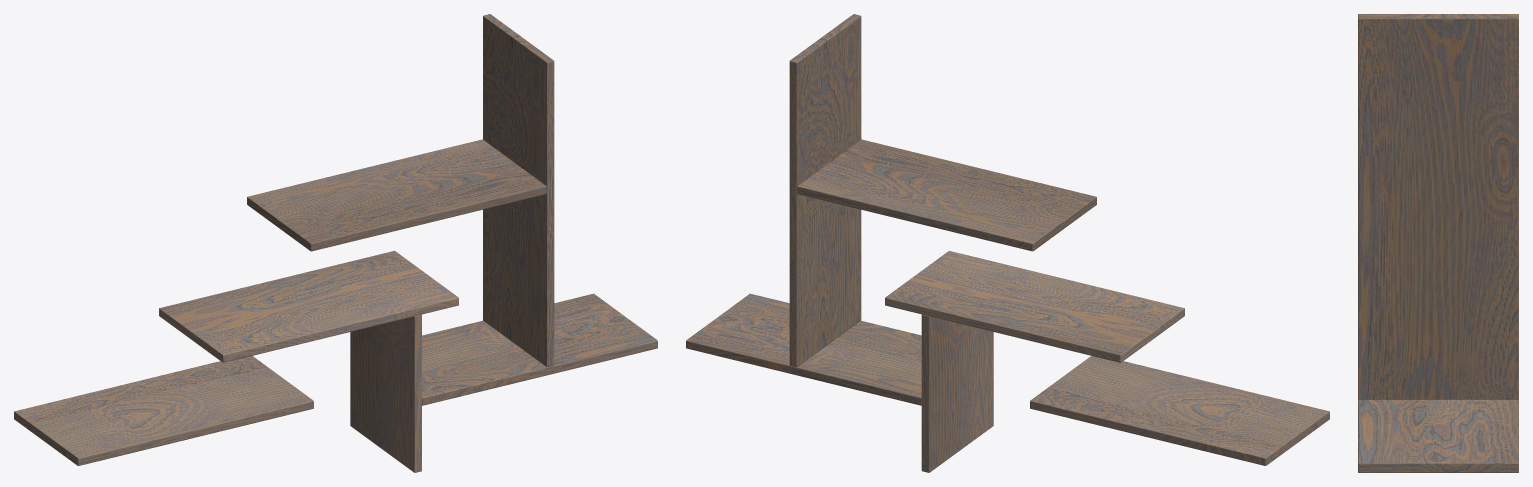
Rendered from shelving.gltf.
3 renders of one model, left to right at view 1: azimuth 30°, elevation 25°; view 2: azimuth 150°, elevation 25°; view 3: azimuth 270°, elevation 25°, orthographic. The views are drawn at different scales.
Visible parts, largest first — view 1: shelf_1; view 2: shelf_1; view 3: shelf_1.
Boxes of the visible parts, x1,y1,x2,y2 form: shelf_1: (14,14,657,472); shelf_1: (686,14,1329,472); shelf_1: (1358,14,1518,472).
Bounding box in the file's own units: 1.5 × 0.9349 × 0.288.
1 material, 1 textured.
